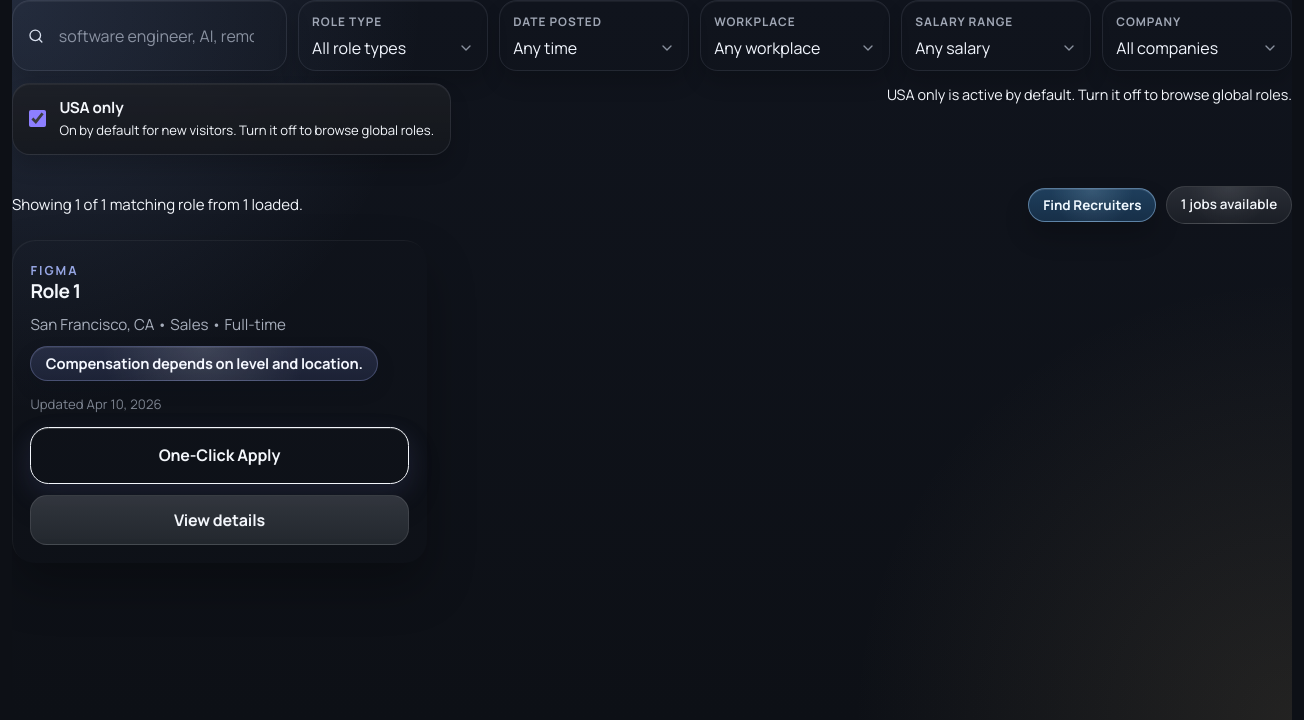
it: JobsResults › hydrates unparseable salary text before ruling jobs out
Select "$150k - $200k" in the dropdown labelled "Salary range" at {"x": 996, "y": 48}, box [915,36,1077,58]
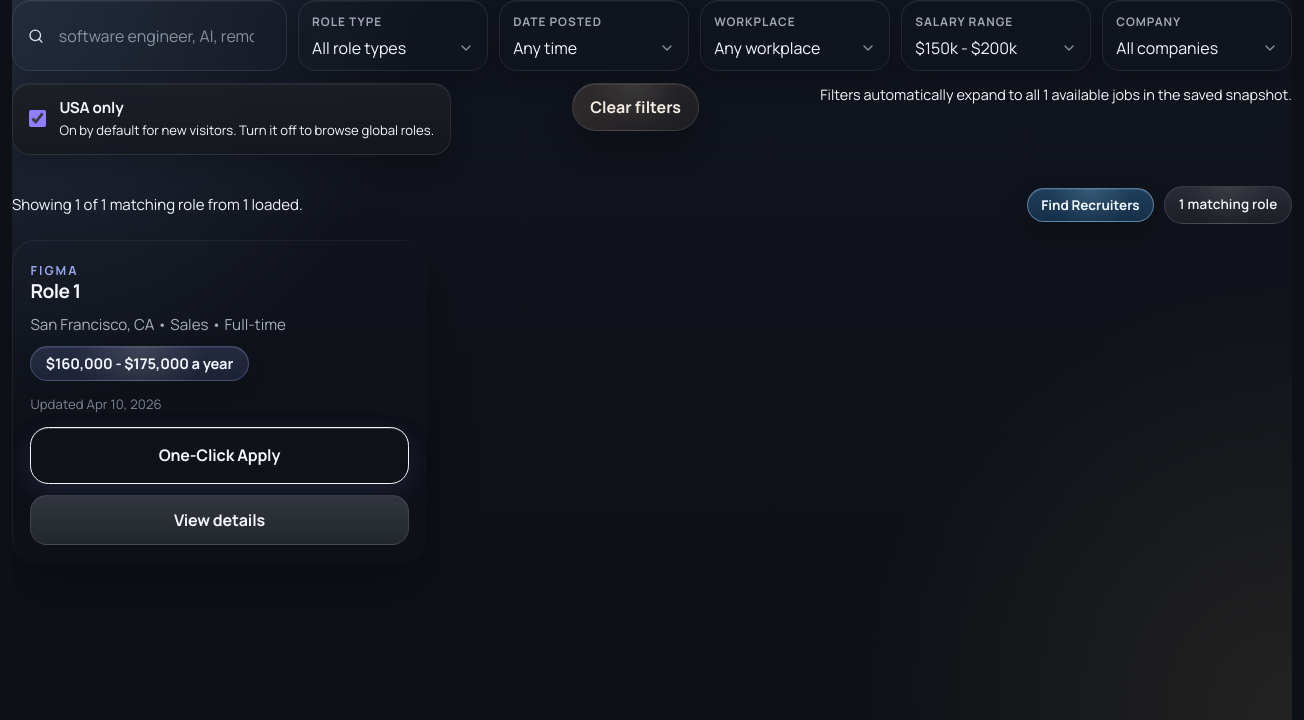
Expected: the text "Showing 1 of 1 matching role from 1 loaded." is shown, [12,193,303,217]
Result: the text "$160,000 - $175,000 a year" is shown at [30,346,248,381]
